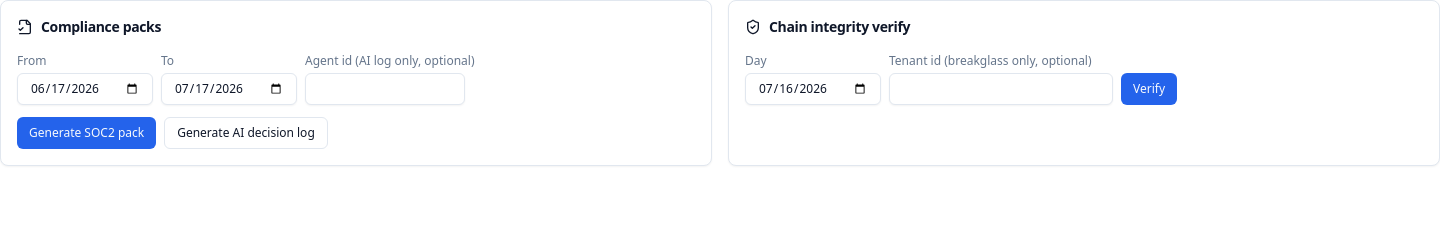
Test case: AuditComplianceCard — chain integrity verify › shows the real pass/fail result
Click the button "Verify": x=1149, y=89 1121,73 -> 1177,105
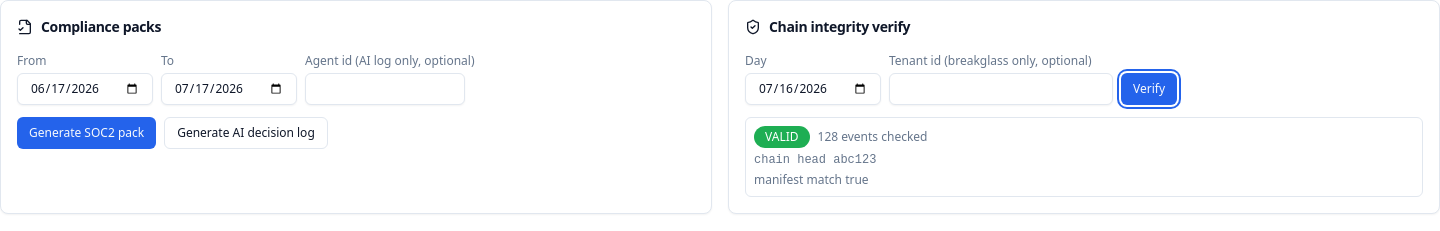
Now the text "VALID" is shown, box 754,126 -> 810,148
Now the text "128 events checked" is shown, box 818,129 -> 928,145
